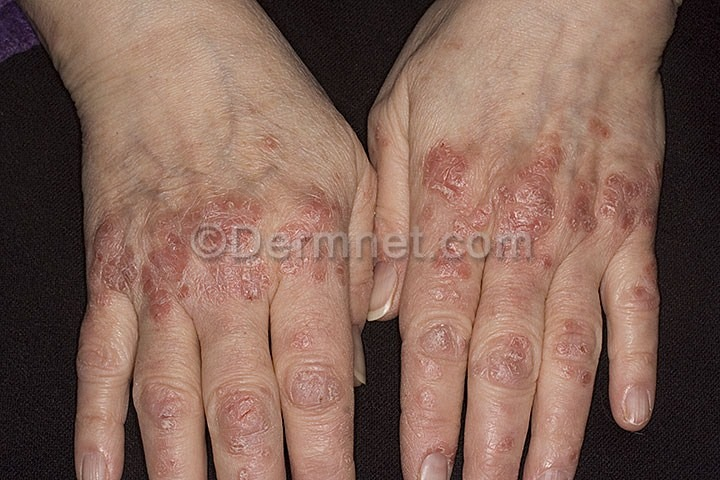Psoriasis: (415, 123, 657, 272), (91, 168, 354, 304), (279, 322, 354, 476), (481, 278, 535, 466), (406, 275, 464, 439), (543, 294, 601, 456), (213, 379, 285, 480), (137, 372, 202, 480), (615, 277, 670, 327)
